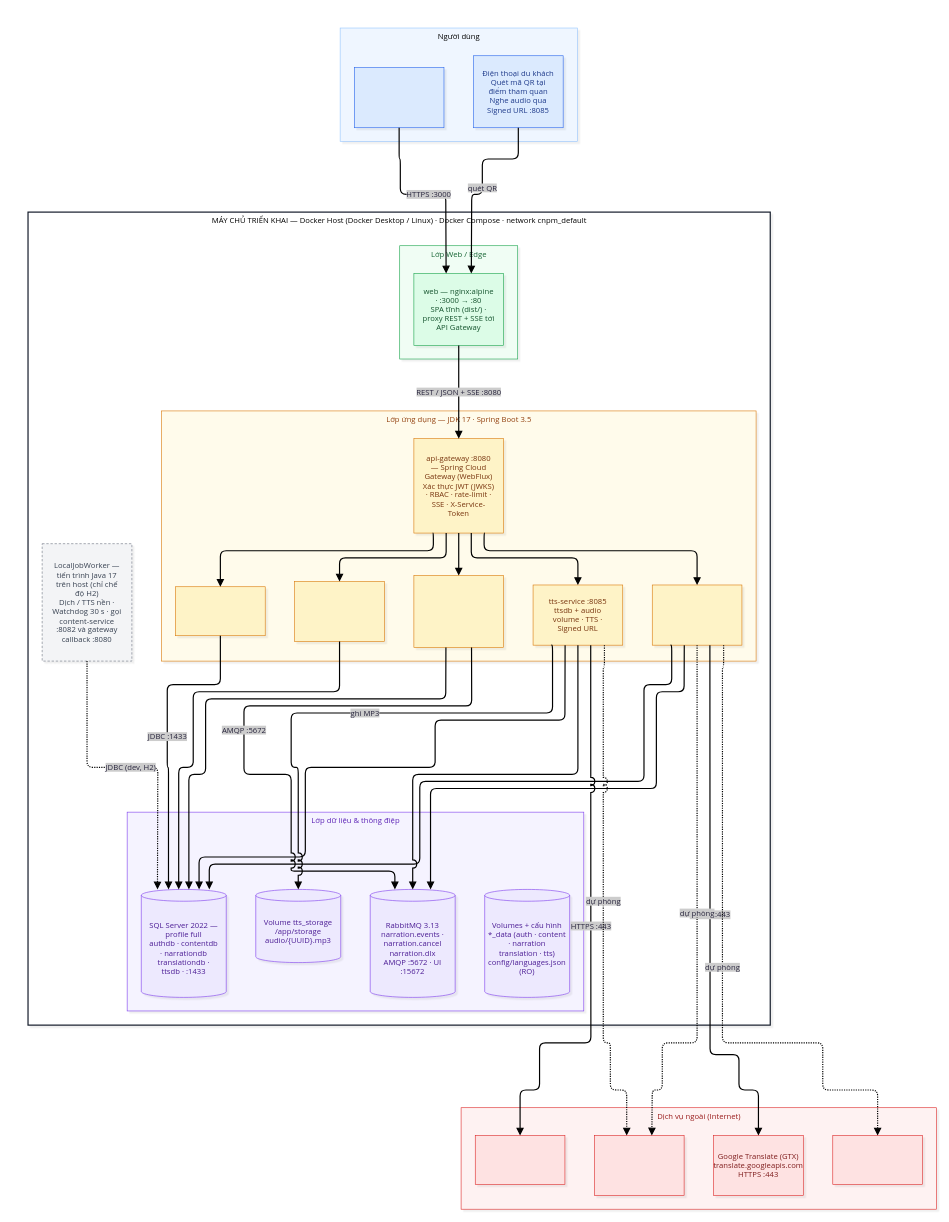
Image size: 949x1222. Some labels were removed from this diagram. Each missing label, with the centre of its shape:
auth-service :8081 authdb · JWT · BCrypt · audit: [221,612]
content-service :8082 contentdb · POI · QR · phiên bản: [340,612]
Google TTS translate.google.com/translate_tts HTTPS :443: [521,1161]
MyMemory API (dự phòng) api.mymemory.translated.net: [878,1161]
Máy tính quản trị Chrome / Edge Web Admin SPA (React 18): [400,98]
narration-service :8083 narrationdb · điều phối job · idempotency: [459,612]
translation-service :8084 translationdb · dịch · chunking: [698,616]
Windows SAPI (máy host, dự phòng) System.Speech.Synthesis qua PowerShell: [640,1166]
